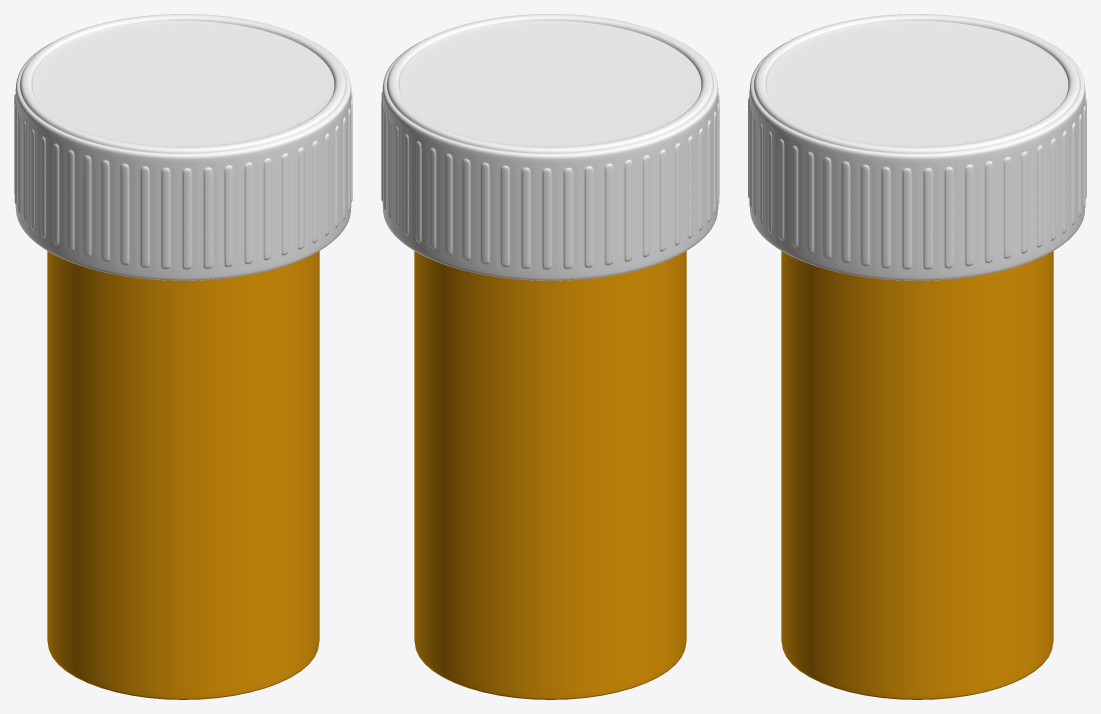
3 views of the same model, side by side, from view 1: azimuth 30°, elevation 25°; view 2: azimuth 150°, elevation 25°; view 3: azimuth 270°, elevation 25° (orthographic).
Parts seen in each view (by area): view 1: pCylinder25; view 2: pCylinder25; view 3: pCylinder25.
Part boxes in pixels (left/top/right/bottom): pCylinder25: left=14, top=14, right=352, bottom=699; pCylinder25: left=381, top=14, right=719, bottom=699; pCylinder25: left=748, top=14, right=1086, bottom=699.
Bounding box in the file's own units: 4.02 × 7.37 × 4.03.
